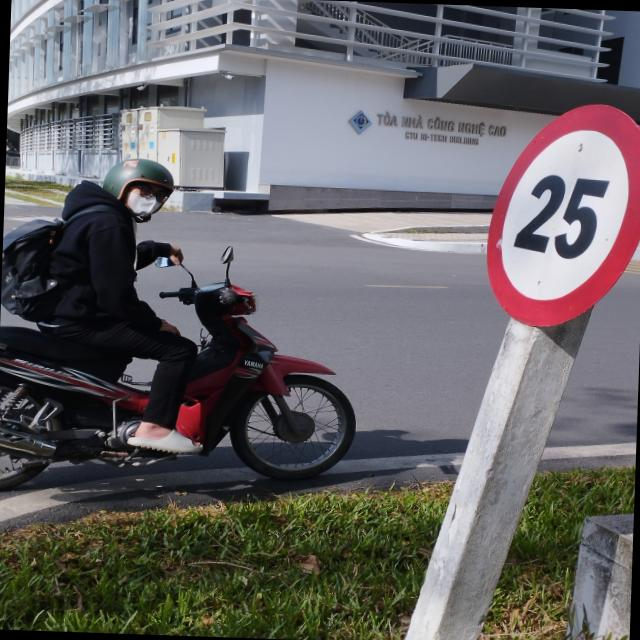Tre_Em: (482, 101, 640, 332)
